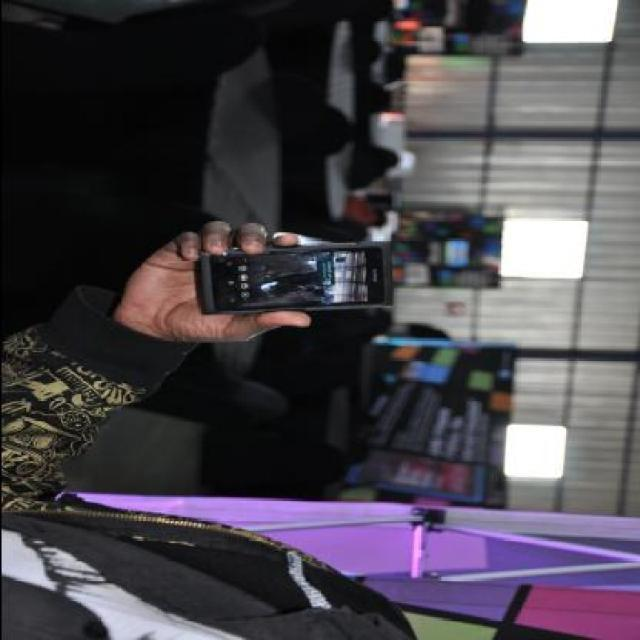phone: (194, 240, 391, 314)
